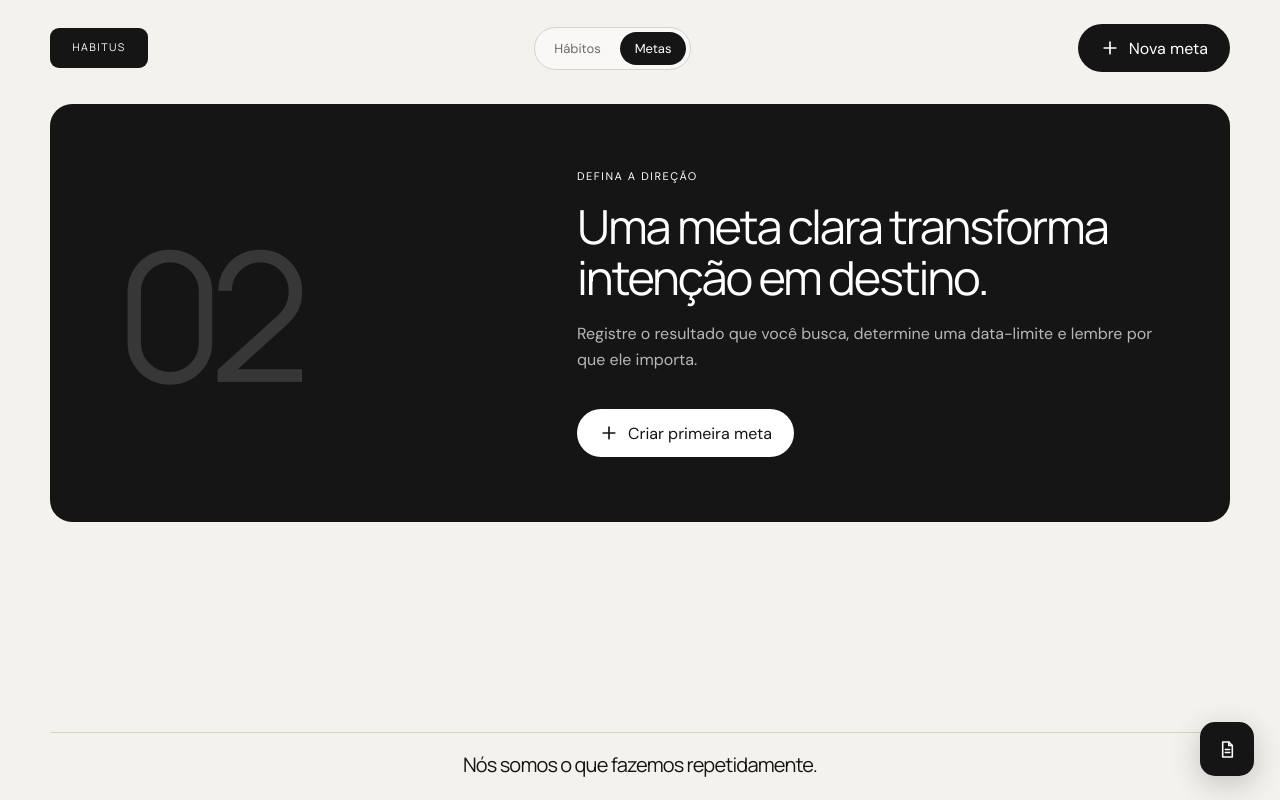
Test case: metas › valida os quatro campos e rejeita uma data passada
Click the button "Criar primeira meta" at (686, 433), box [577,409,794,457]
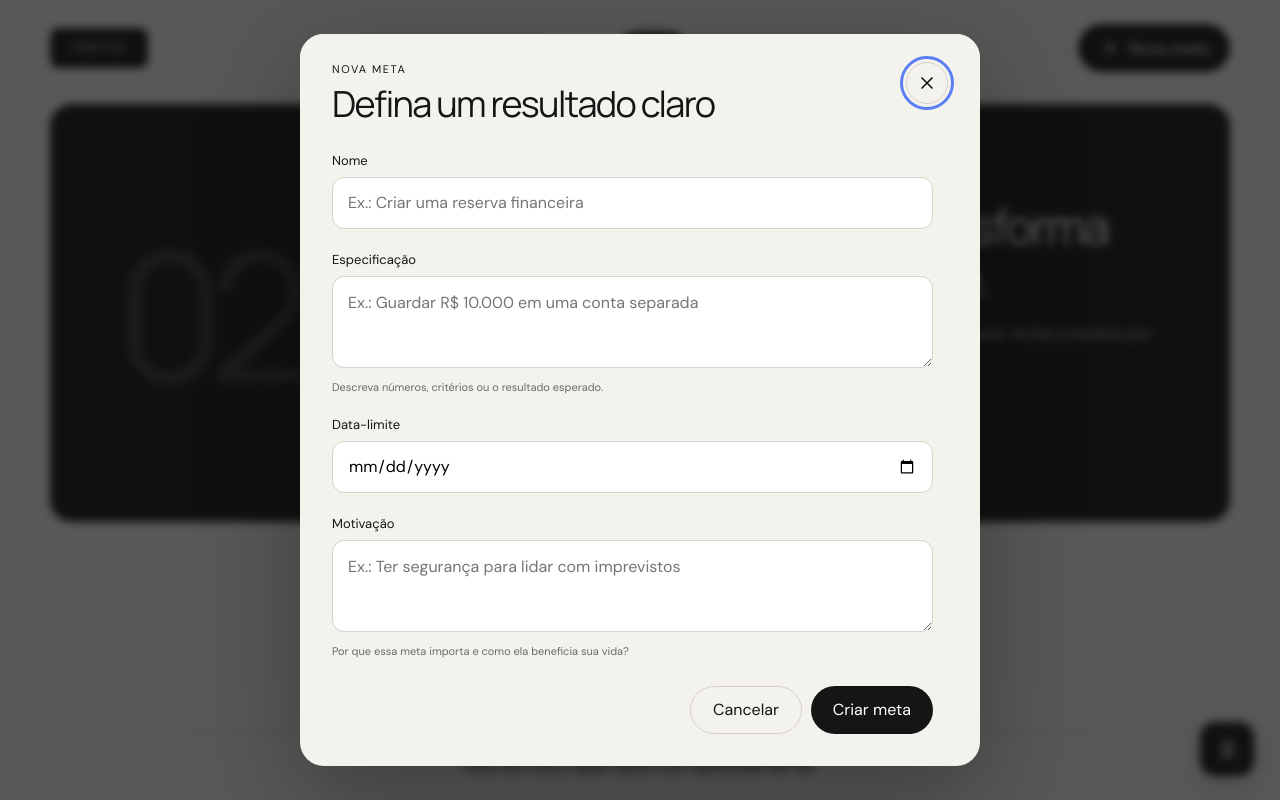
Type "2000-01-01" into the date field labelled "Data-limite" at (632, 467), box [332,441,933,493]
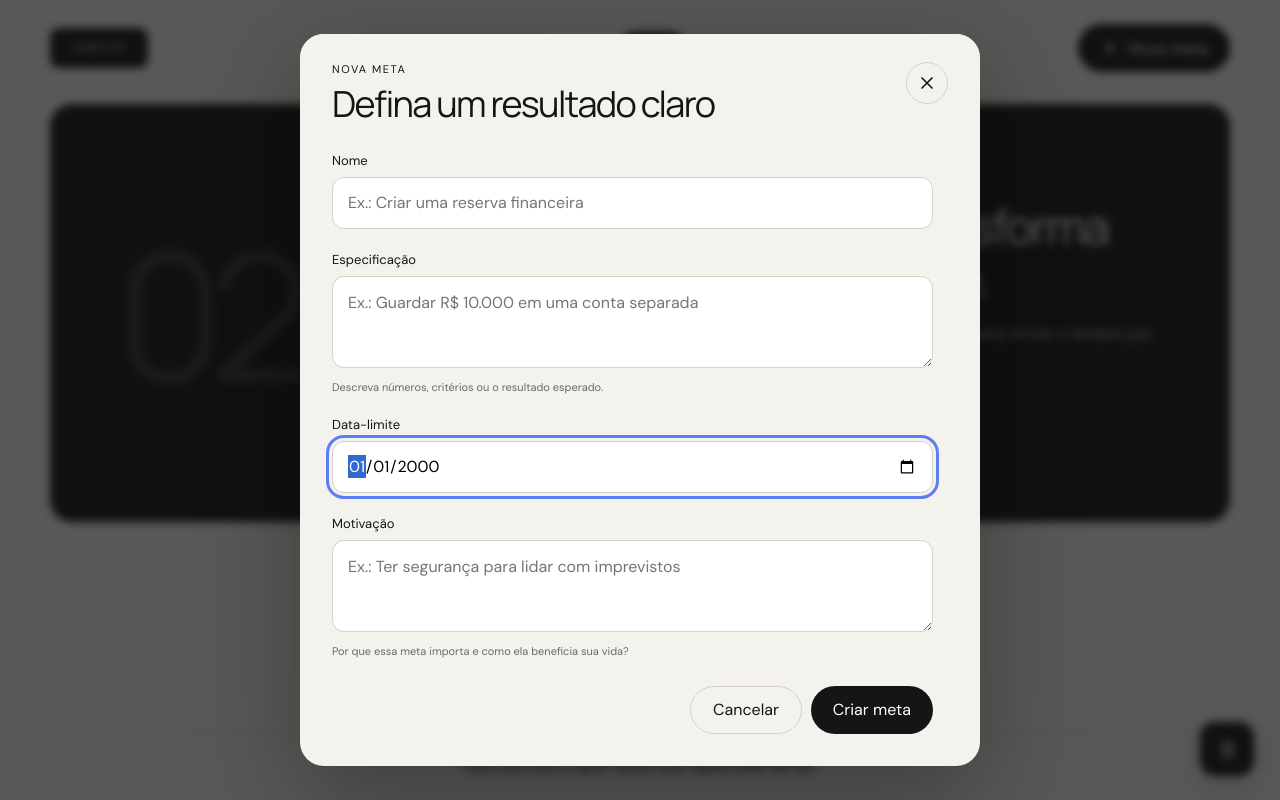
Click the button "Criar meta" at (872, 710), box [811,686,933,734]
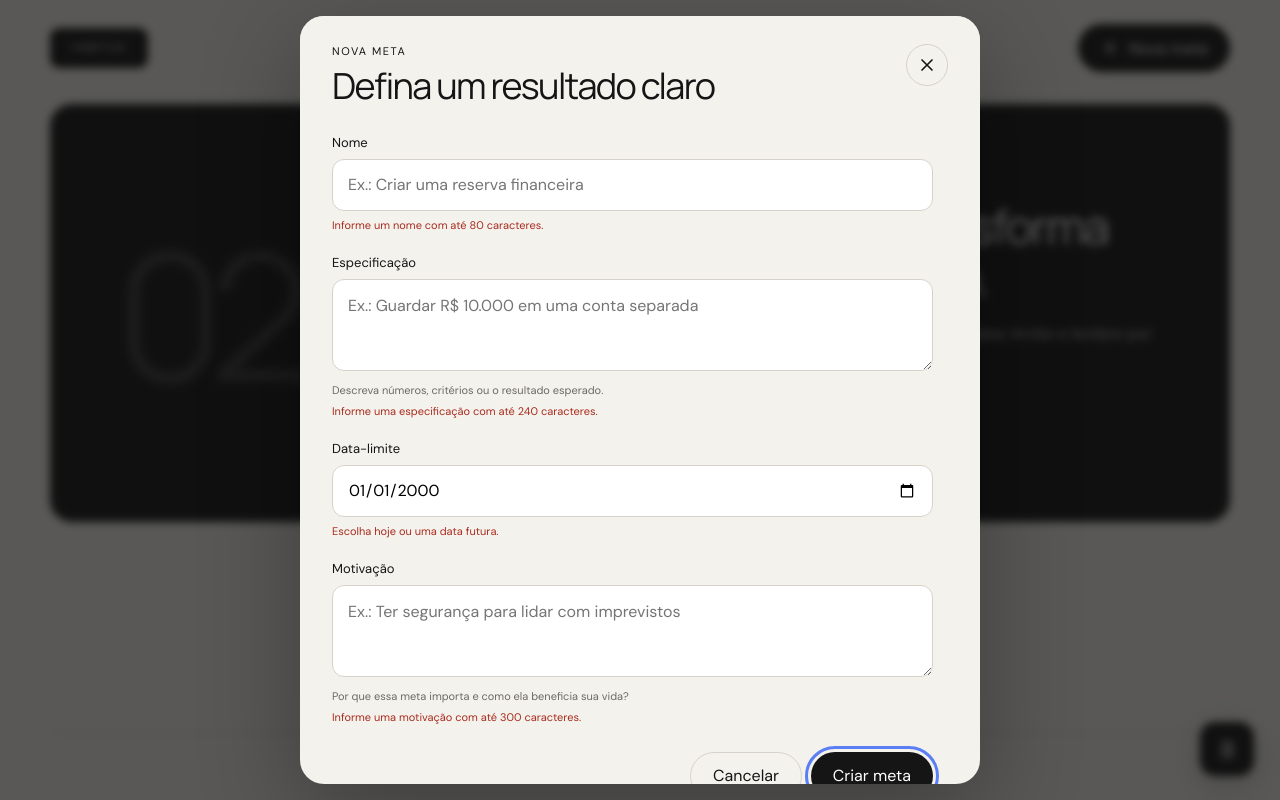
Expected: the text "Informe um nome com até 80 caracteres." is shown, [332,218,543,232]
Expected: the text "Informe uma especificação com até 240 caracteres." is shown, [332,404,598,418]
Expected: the text "Escolha hoje ou uma data futura." is shown, [332,524,498,538]
